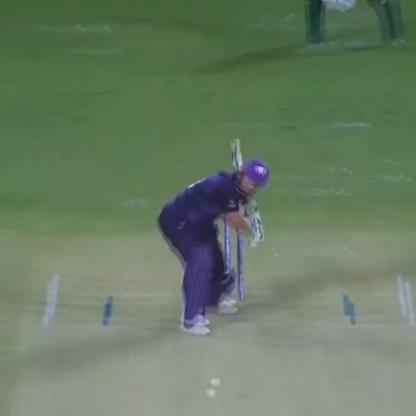ball: (199, 385, 217, 401), (206, 372, 226, 386)
bat: (227, 136, 250, 167)
pitch: (6, 266, 416, 416)
